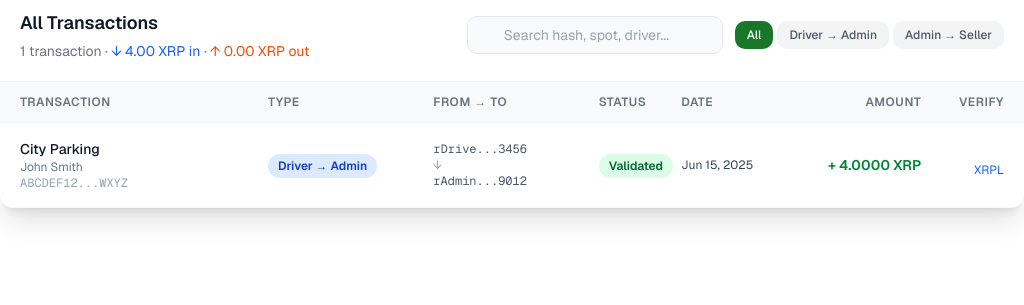
TransactionTable Component › Empty State › shows filter message when search active
The image size is (1024, 305).
Expected: the text "City Parking" is shown, [20,140,100,158]
Step 1. Type "nonexistent999" into the field with placeholder "Search hash, spot, driver..." → (595, 35), box [467,16,723,54]
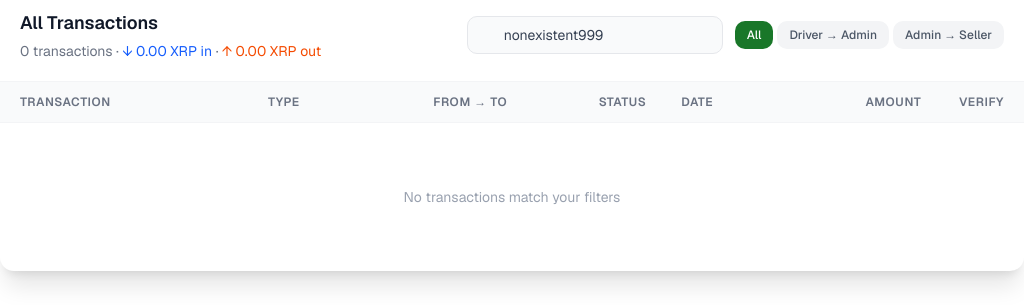
Expected: the text "No transactions match your filters" is shown, [404,188,620,206]
